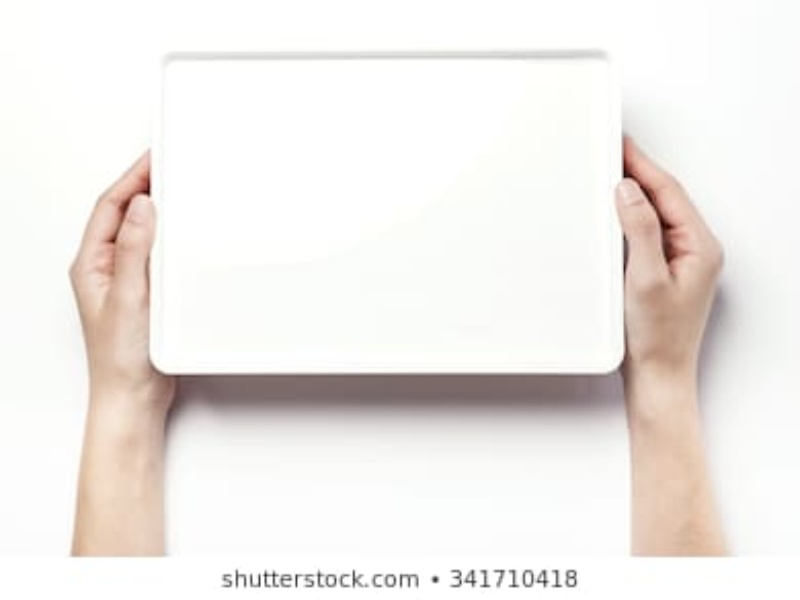plastic-tray: (152, 45, 631, 378)
